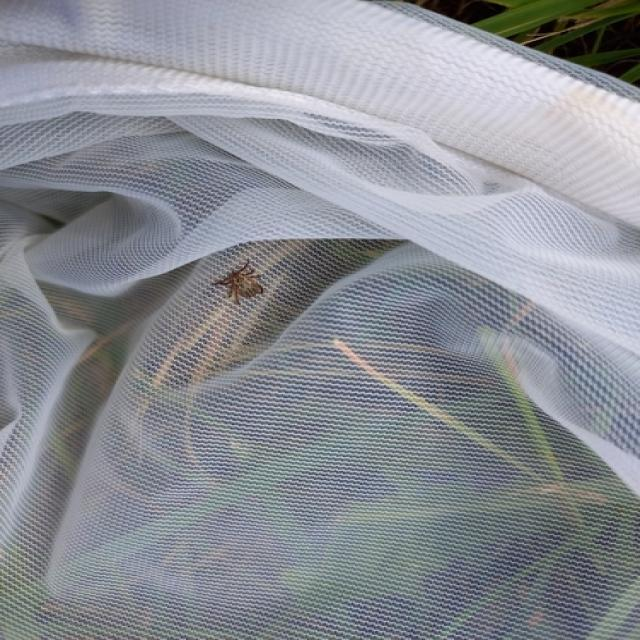Dermacentor Reticulatus-M: (198, 265, 263, 306)
